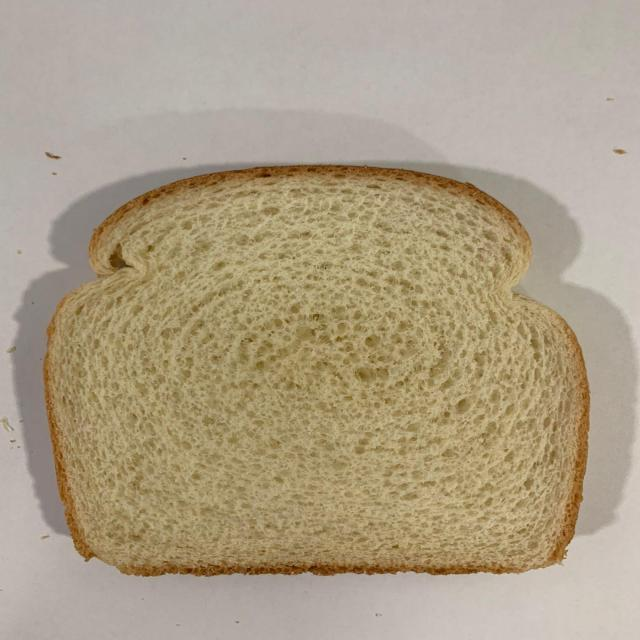sliced_bread: (44, 164, 589, 576)
